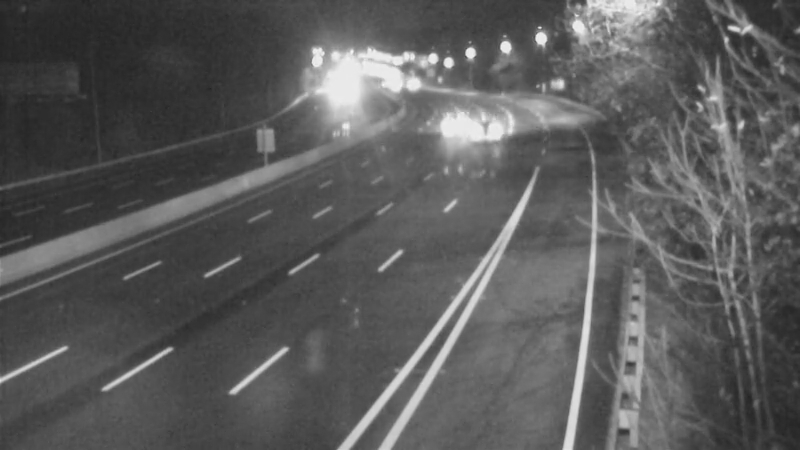vehicle: (384, 59, 434, 109), (426, 95, 476, 145), (460, 104, 510, 154)
